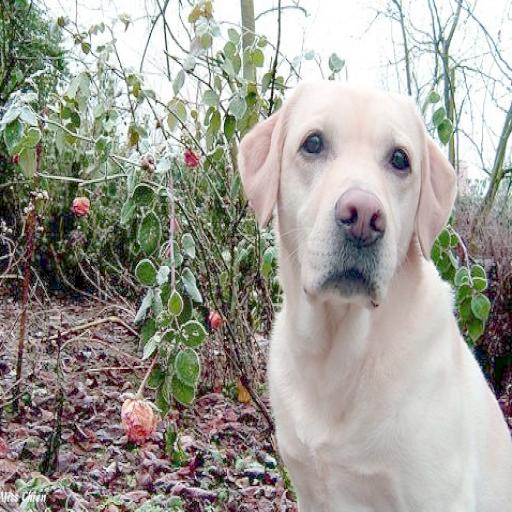dog_face: (240, 72, 457, 313)
